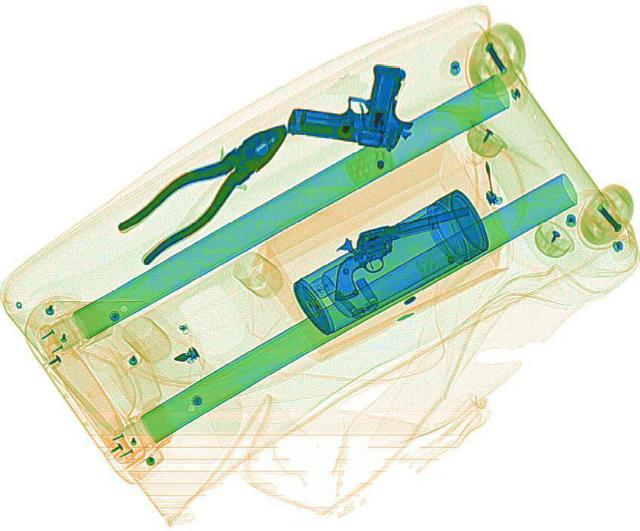Gun: (308, 202, 494, 301), (282, 52, 426, 151)
Pliers: (103, 108, 311, 264)
